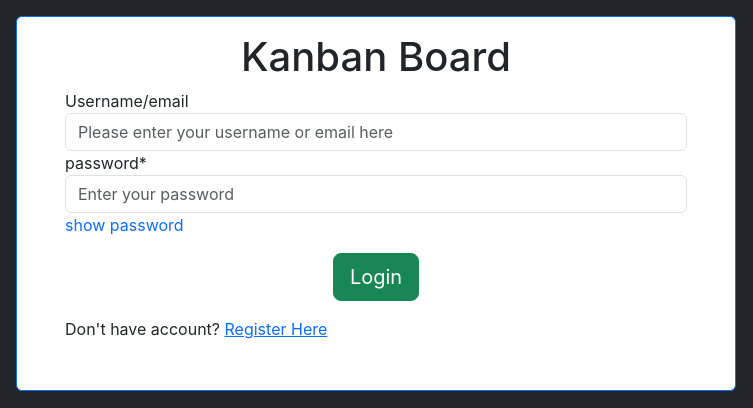
Scenario: renders home componenet correctly › clicking on showPassword should show hide password text
Click the text "show password" at (124, 224), box x1=65 y1=214 x2=184 y2=234
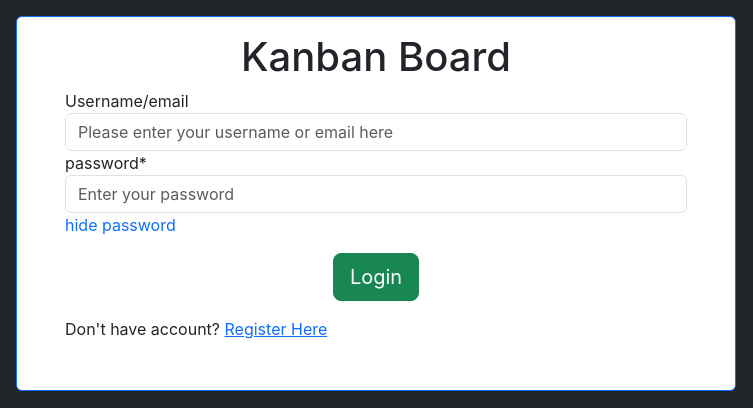
expect the text "hide password" is shown: met, box x1=65 y1=214 x2=176 y2=234
